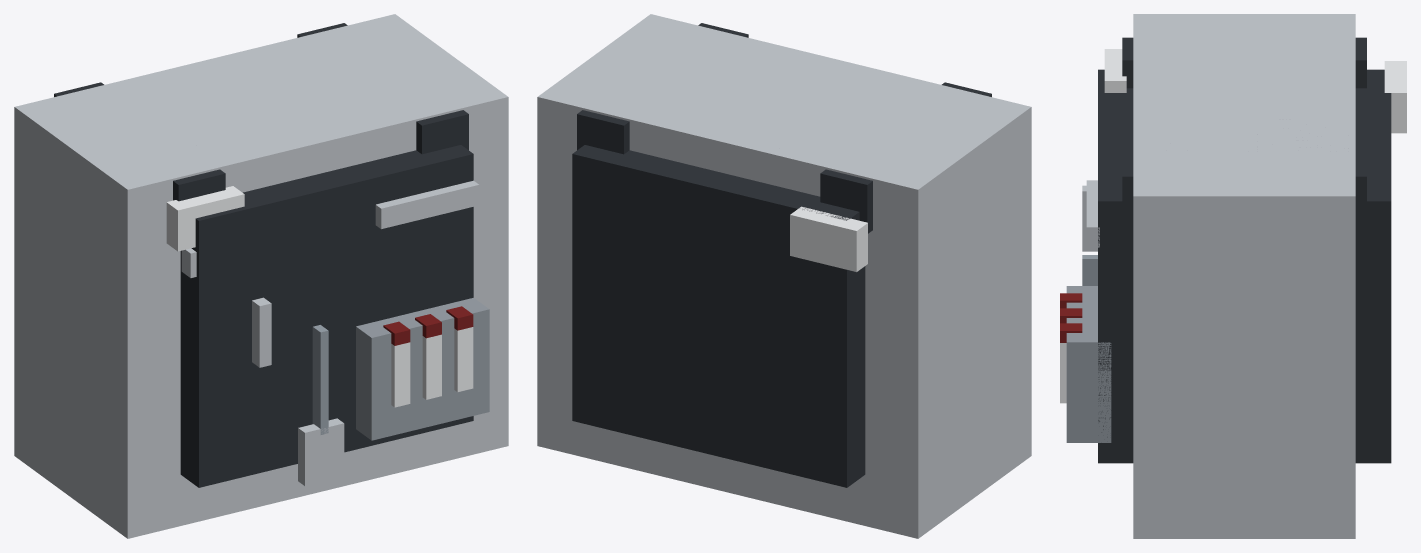
The model's file is pc_epi_upper_torso.fbx.
The picture shows the model from 3 angles, left to right: view 1: azimuth 30°, elevation 25°; view 2: azimuth 150°, elevation 25°; view 3: azimuth 270°, elevation 25°; orthographic projection.
Parts seen in each view (by area): view 1: pc_epi_upper_torso; view 2: pc_epi_upper_torso; view 3: pc_epi_upper_torso.
Part boxes in pixels (x1,y1,x2,y2): pc_epi_upper_torso: (14, 14, 508, 538); pc_epi_upper_torso: (537, 14, 1031, 538); pc_epi_upper_torso: (1060, 14, 1406, 538).
Size of the model in its own units: 194 by 170 by 156.
